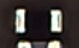COMP: (10, 4, 67, 37)
GAP: (15, 20, 62, 48)
